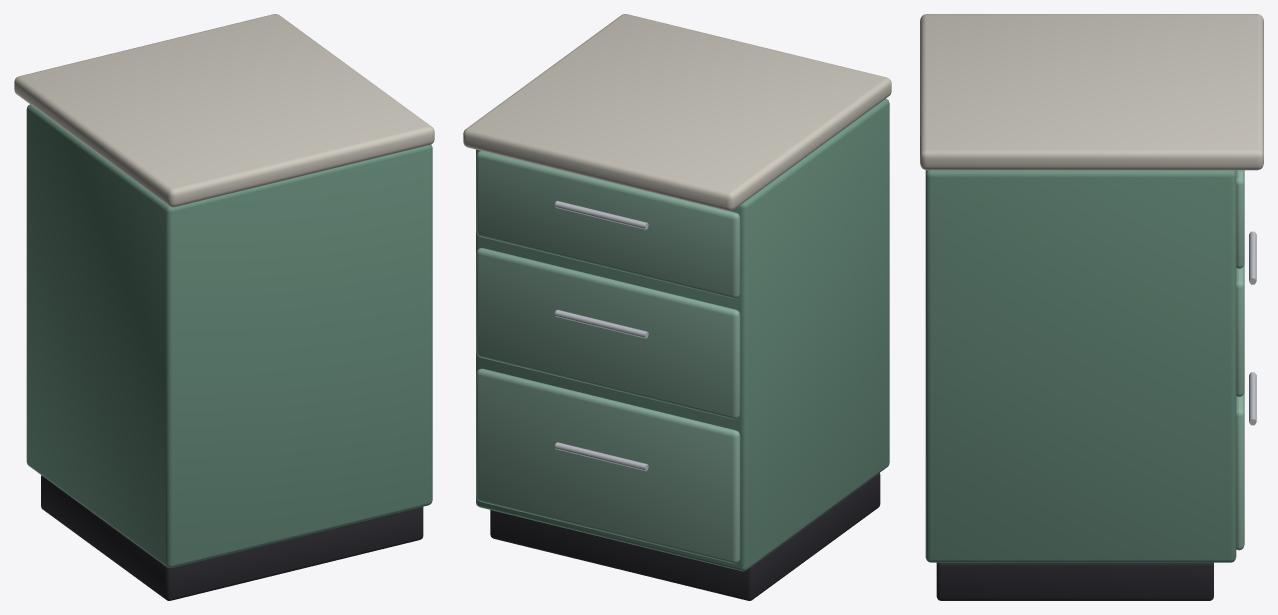
File: counter_drawers.glb
The picture shows the model from 3 angles, left to right: view 1: azimuth 30°, elevation 25°; view 2: azimuth 150°, elevation 25°; view 3: azimuth 270°, elevation 25°; orthographic projection. The views are drawn at different scales.
Parts seen in each view (by area): view 1: counter_drawers; view 2: counter_drawers; view 3: counter_drawers.
Boxes of the visible parts, bbox=[...] form: counter_drawers: bbox=[14, 14, 434, 600]; counter_drawers: bbox=[463, 14, 891, 600]; counter_drawers: bbox=[920, 14, 1263, 600].
Bounding box in the file's own units: 0.6 × 0.9 × 0.62.
